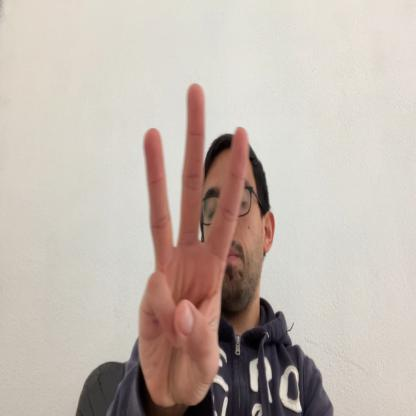W: (137, 84, 250, 415)
